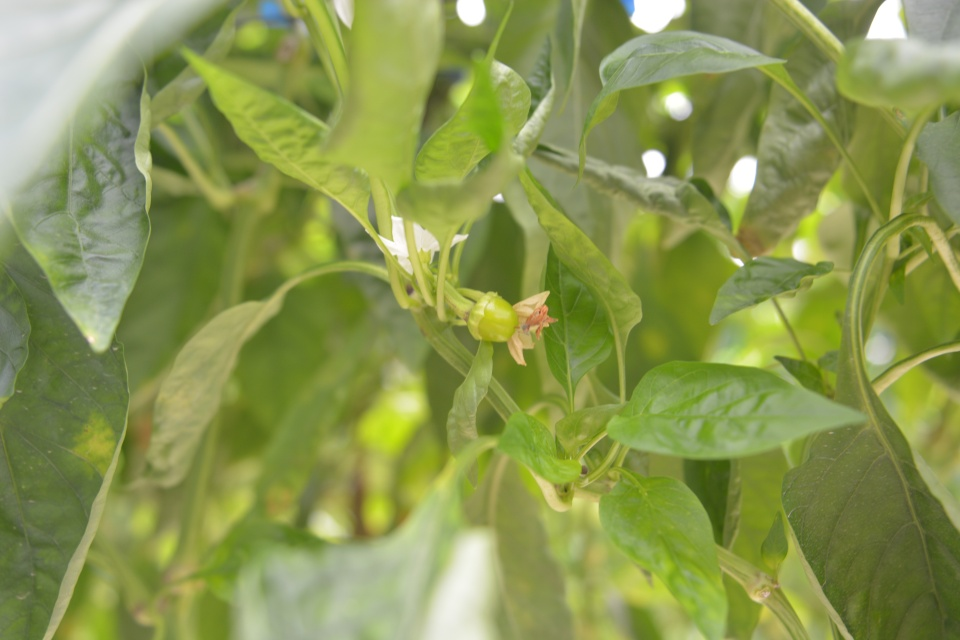flower: (363, 216, 470, 277)
